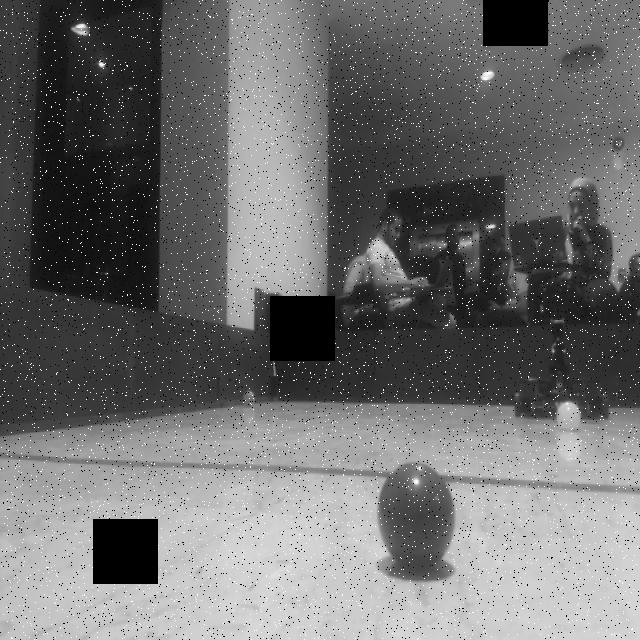ball: (379, 456, 455, 579), (553, 399, 585, 436), (238, 388, 260, 409)
